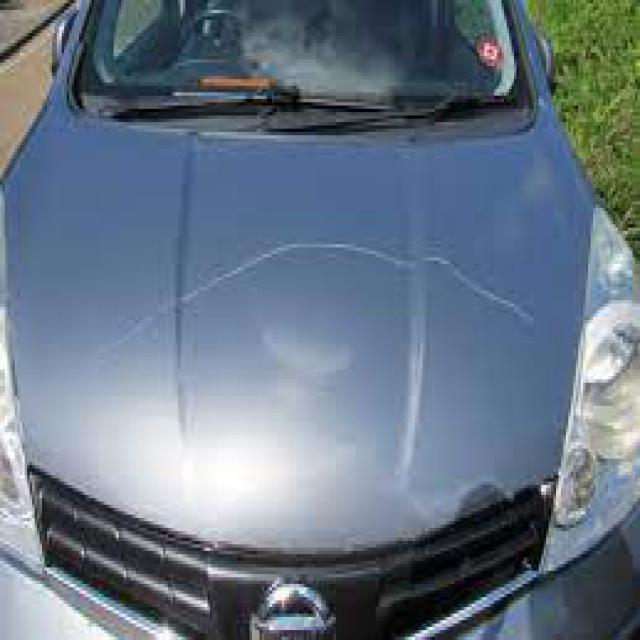bonnet-dent: (30, 165, 591, 574)
